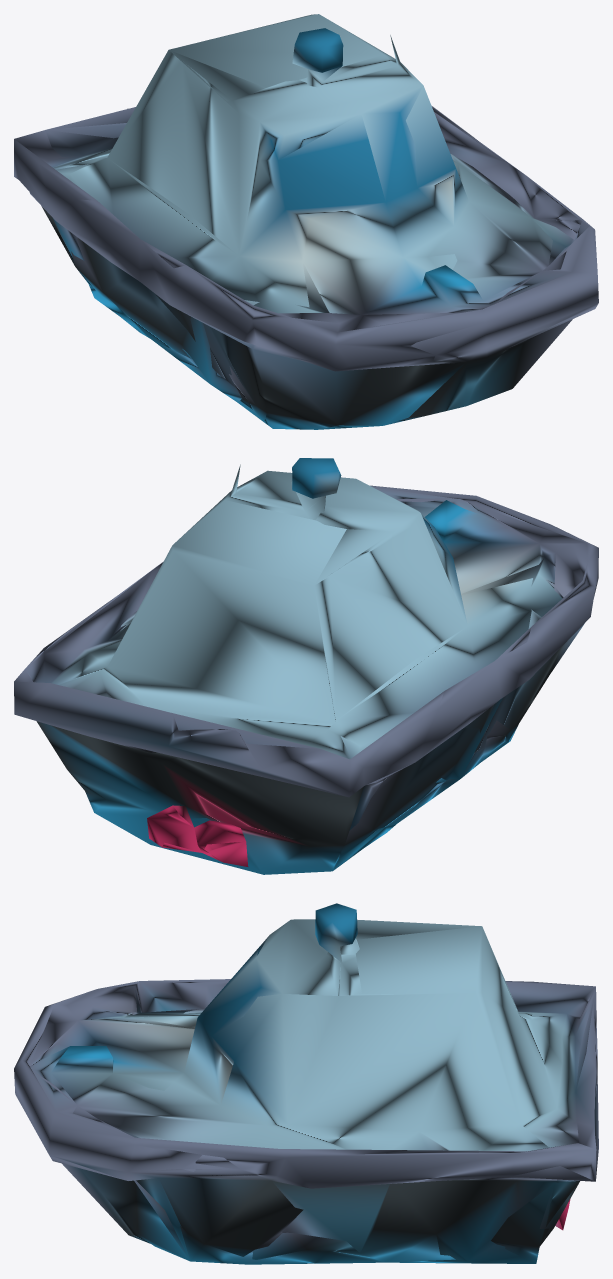
File: gen3d-motorboat-lod1.glb
3 views of the same model, one above another, from view 1: azimuth 30°, elevation 25°; view 2: azimuth 150°, elevation 25°; view 3: azimuth 270°, elevation 25° (orthographic). The views are drawn at different scales.
Parts seen in each view (by area): view 1: part_0; view 2: part_0; view 3: part_0.
Part boxes in pixels (x1,y1,x2,y2): part_0: (14, 14, 598, 429); part_0: (14, 458, 598, 874); part_0: (14, 903, 598, 1264).
Bounding box in the file's own units: 1.17 × 0.9992 × 1.68.
